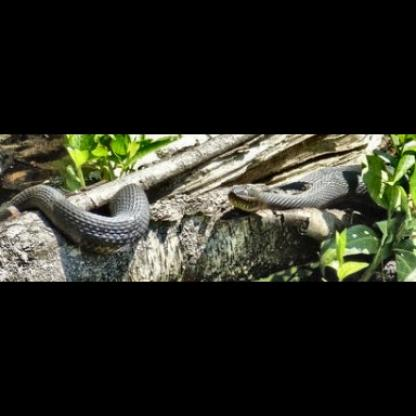Snake: (0, 178, 157, 252), (224, 161, 380, 217)
